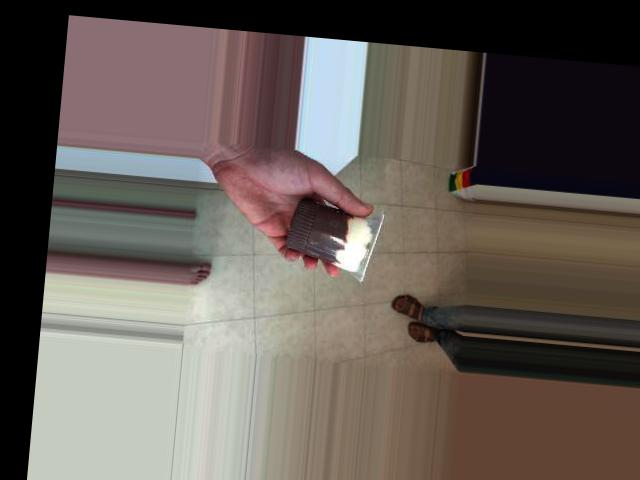milky: (269, 188, 388, 271)
